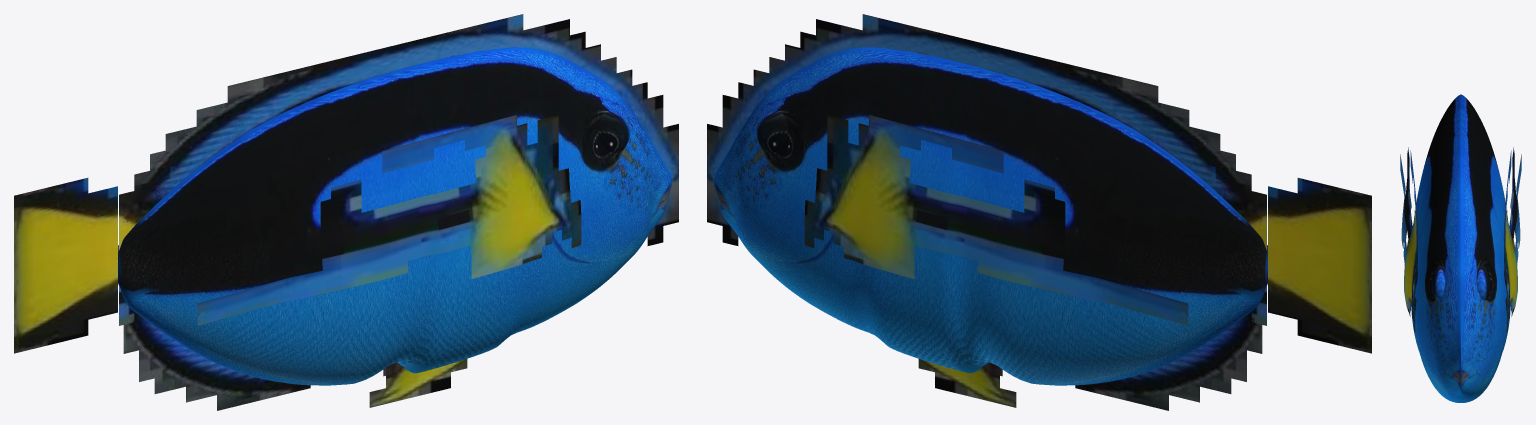
Rendered from real-paracanthurus_hepatus.glb.
The picture shows the model from 3 angles, left to right: view 1: azimuth 30°, elevation 25°; view 2: azimuth 150°, elevation 25°; view 3: azimuth 270°, elevation 25°; orthographic projection. The views are drawn at different scales.
Visible parts, largest first — view 1: paracanthurus_hepatus; view 2: paracanthurus_hepatus; view 3: paracanthurus_hepatus.
Boxes of the visible parts, x1,y1,x2,y2 form: paracanthurus_hepatus: [14, 14, 678, 410]; paracanthurus_hepatus: [707, 14, 1371, 410]; paracanthurus_hepatus: [1400, 94, 1521, 402].
Bounding box in the file's own units: 0.311 × 0.1594 × 0.0645.
Materials: 1 (1 with a texture image).
